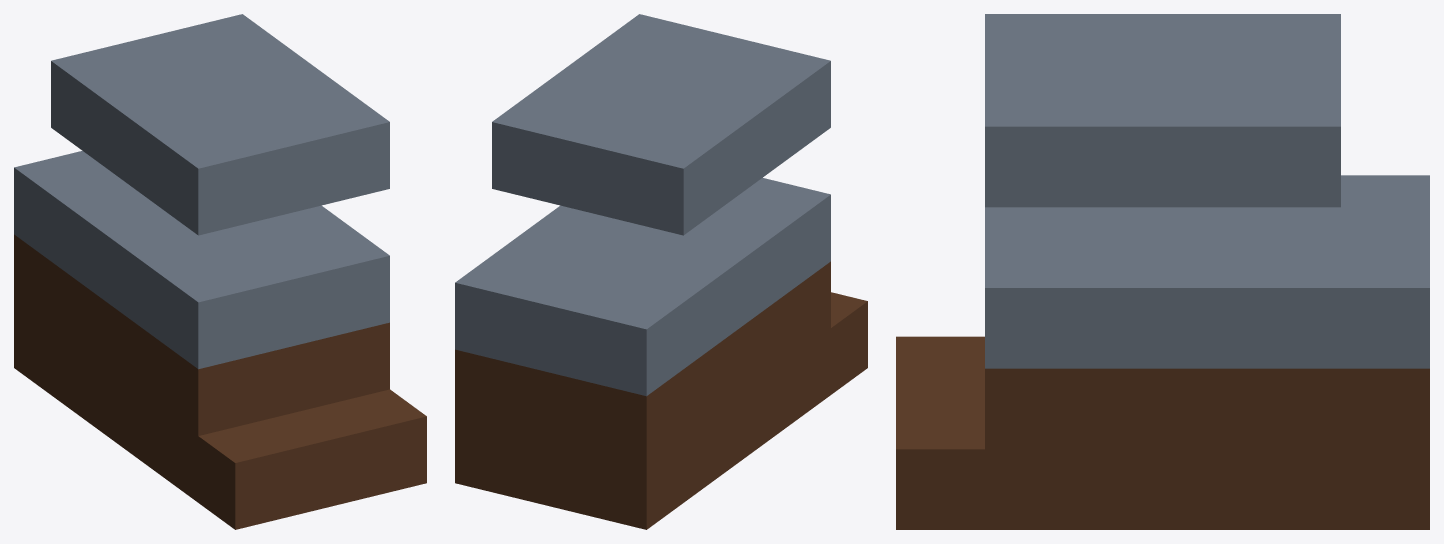
The model's file is knight__leg_l.glb.
The picture shows the model from 3 angles, left to right: view 1: azimuth 30°, elevation 25°; view 2: azimuth 150°, elevation 25°; view 3: azimuth 270°, elevation 25°; orthographic projection. The views are drawn at different scales.
Visible parts, largest first — view 1: knight__leg_l; view 2: knight__leg_l; view 3: knight__leg_l.
Boxes of the visible parts, x1,y1,x2,y2 form: knight__leg_l: [14, 14, 426, 529]; knight__leg_l: [455, 14, 867, 529]; knight__leg_l: [896, 14, 1429, 529].
Size of the model in its own units: 0.3 by 0.5 by 0.6.
1 material, 1 textured.
